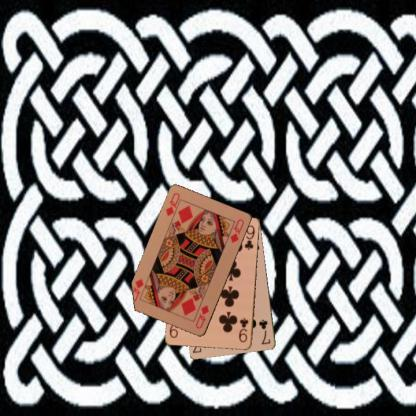7c: (256, 316, 272, 346)
9c: (236, 315, 250, 344)
Qd: (163, 190, 183, 221), (193, 302, 210, 330)
